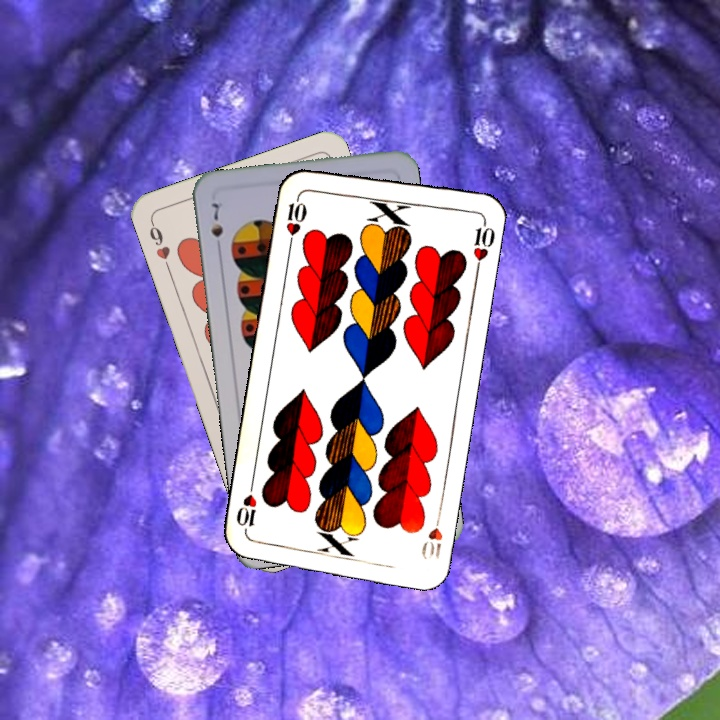H10: (417, 506, 446, 563), (282, 189, 310, 248)
H9: (145, 217, 174, 274)
S7: (207, 198, 226, 255)
